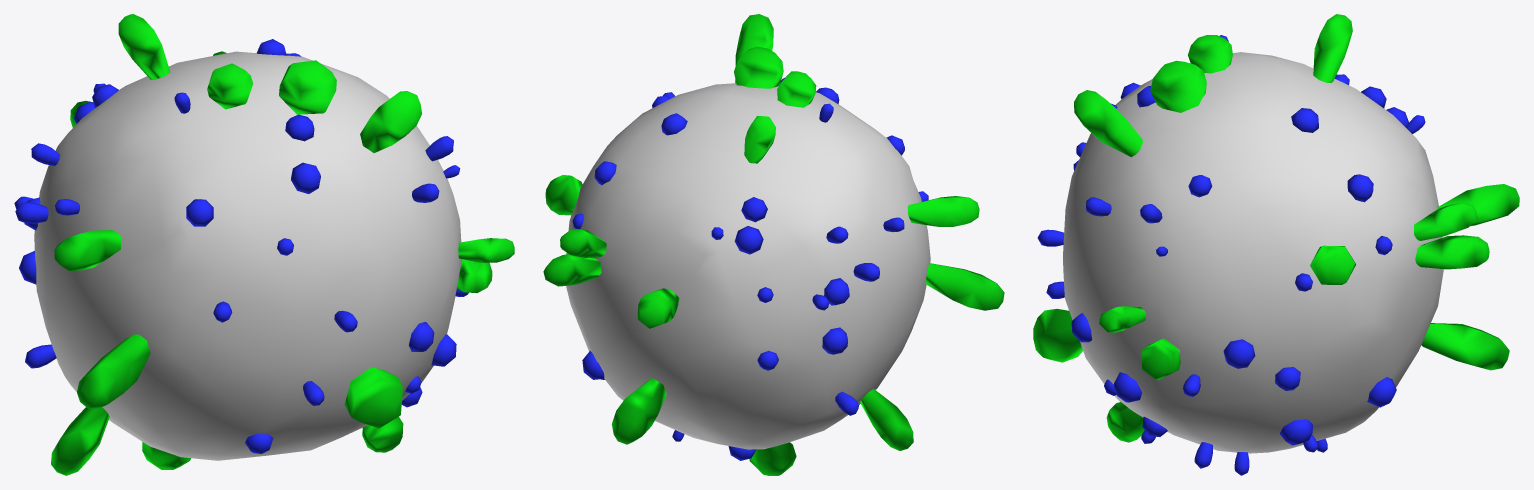
Rendered from obj_voxelmaterialchunk_t1medium.fbx.
3 views of the same model, side by side, from view 1: azimuth 30°, elevation 25°; view 2: azimuth 150°, elevation 25°; view 3: azimuth 270°, elevation 25° (orthographic). The views are drawn at different scales.
Visible parts, largest first — view 1: chunk_medium.001, clutter_bulbrock_medium.001, clutter_bulbcrystal_medium.001; view 2: chunk_medium.001, clutter_bulbrock_medium.001, clutter_bulbcrystal_medium.001; view 3: chunk_medium.001, clutter_bulbrock_medium.001, clutter_bulbcrystal_medium.001.
Part boxes in pixels (x1,y1,x2,y2): chunk_medium.001: [34, 51, 461, 460]; clutter_bulbrock_medium.001: [51, 14, 514, 475]; clutter_bulbcrystal_medium.001: [14, 39, 468, 453]; chunk_medium.001: [566, 83, 930, 449]; clutter_bulbrock_medium.001: [543, 14, 1004, 475]; clutter_bulbcrystal_medium.001: [572, 77, 928, 460]; chunk_medium.001: [1063, 52, 1443, 453]; clutter_bulbrock_medium.001: [1033, 14, 1519, 442]; clutter_bulbcrystal_medium.001: [1037, 35, 1425, 475].
Size of the model in its own units: 9.77 by 9.54 by 10.25.
